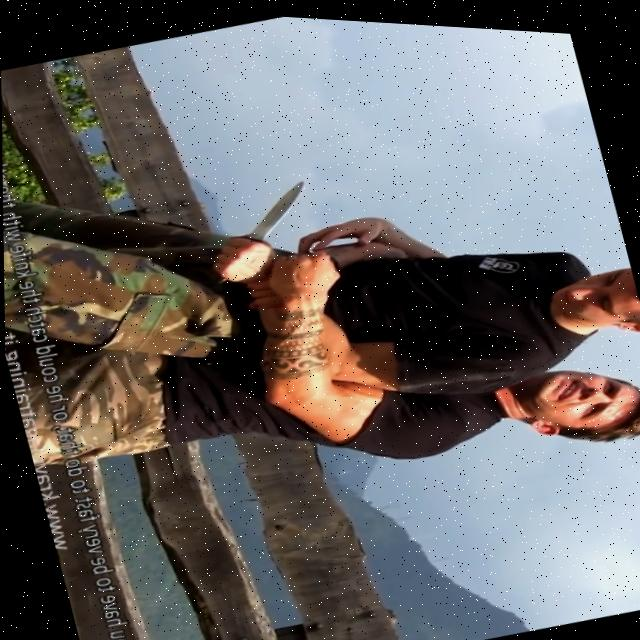knife: (232, 170, 317, 238)
